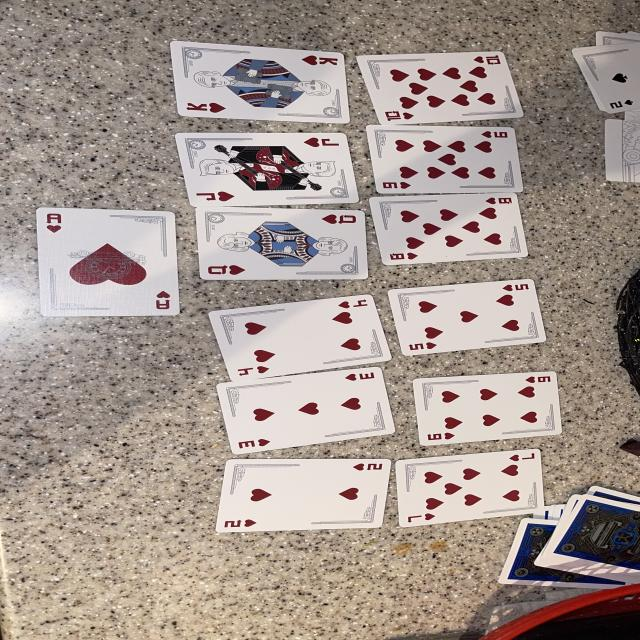10 of hearts: (362, 52, 523, 126)
2 of hearts: (217, 459, 389, 535)
3 of hearts: (215, 367, 395, 454)
4 of hearts: (212, 295, 392, 381)
5 of hearts: (388, 281, 547, 358)
6 of hearts: (412, 373, 563, 451)
7 of hearts: (398, 451, 545, 531)
8 of hearts: (373, 194, 528, 268)
9 of hearts: (372, 126, 523, 196)
Ace of hearts: (34, 208, 181, 323)
Jack of hearts: (174, 133, 359, 208)
King of hearts: (170, 42, 351, 129)
Queen of hearts: (200, 209, 367, 282)
